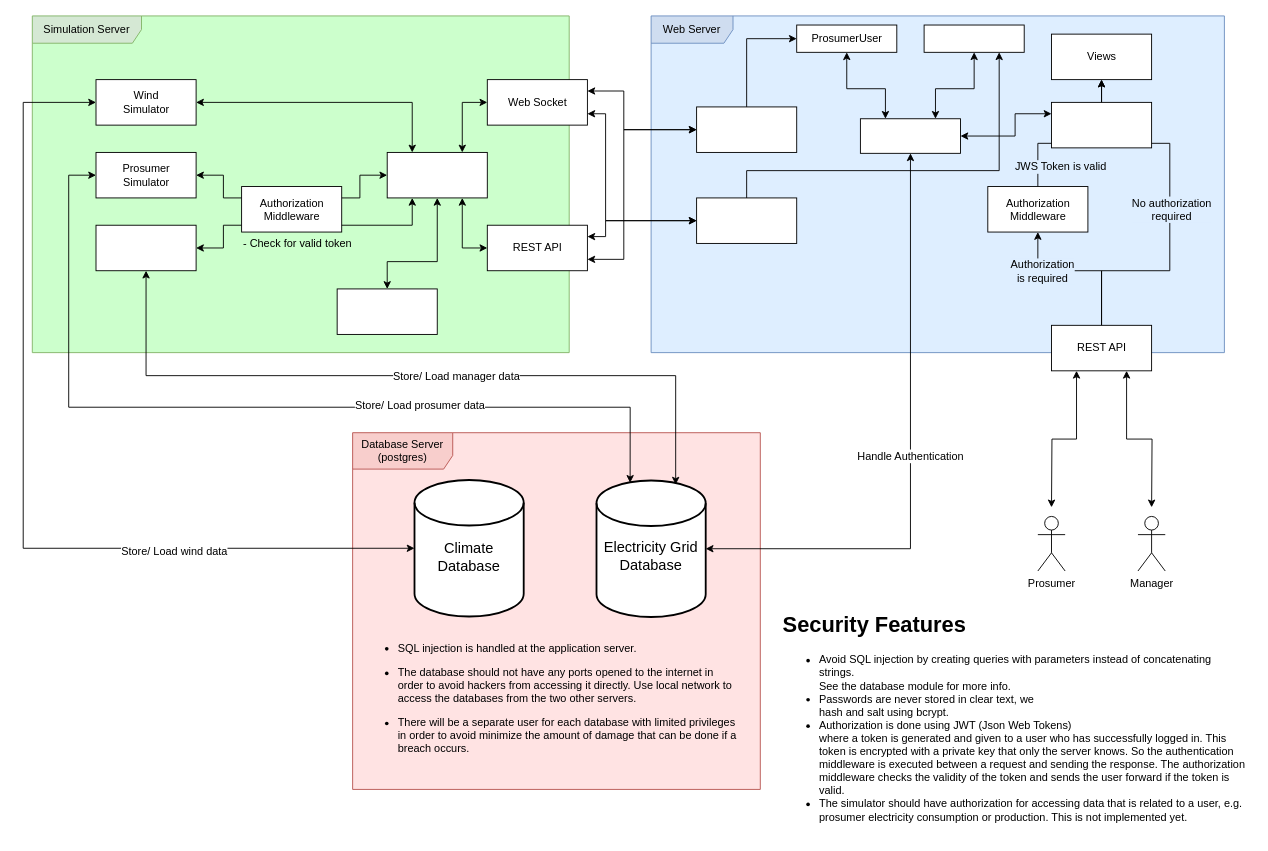
Some shapes in this 1268 by 851 pixel diagram are drawn without their labels. The centre of each missing label's shape, as x and y in pixels:
"Abstract User" goes at pixel 910 135.
"Coal Power Plant Simulator" goes at pixel 145 247.
"Controllers" goes at pixel 1101 124.
"Electricity Price Calculation" goes at pixel 386 311.
"Manager Dashboard" goes at pixel 746 220.
"ManagerUser" goes at pixel 973 38.
"Prosumer Dashboard" goes at pixel 746 129.
"Simulator" goes at pixel 436 175.
